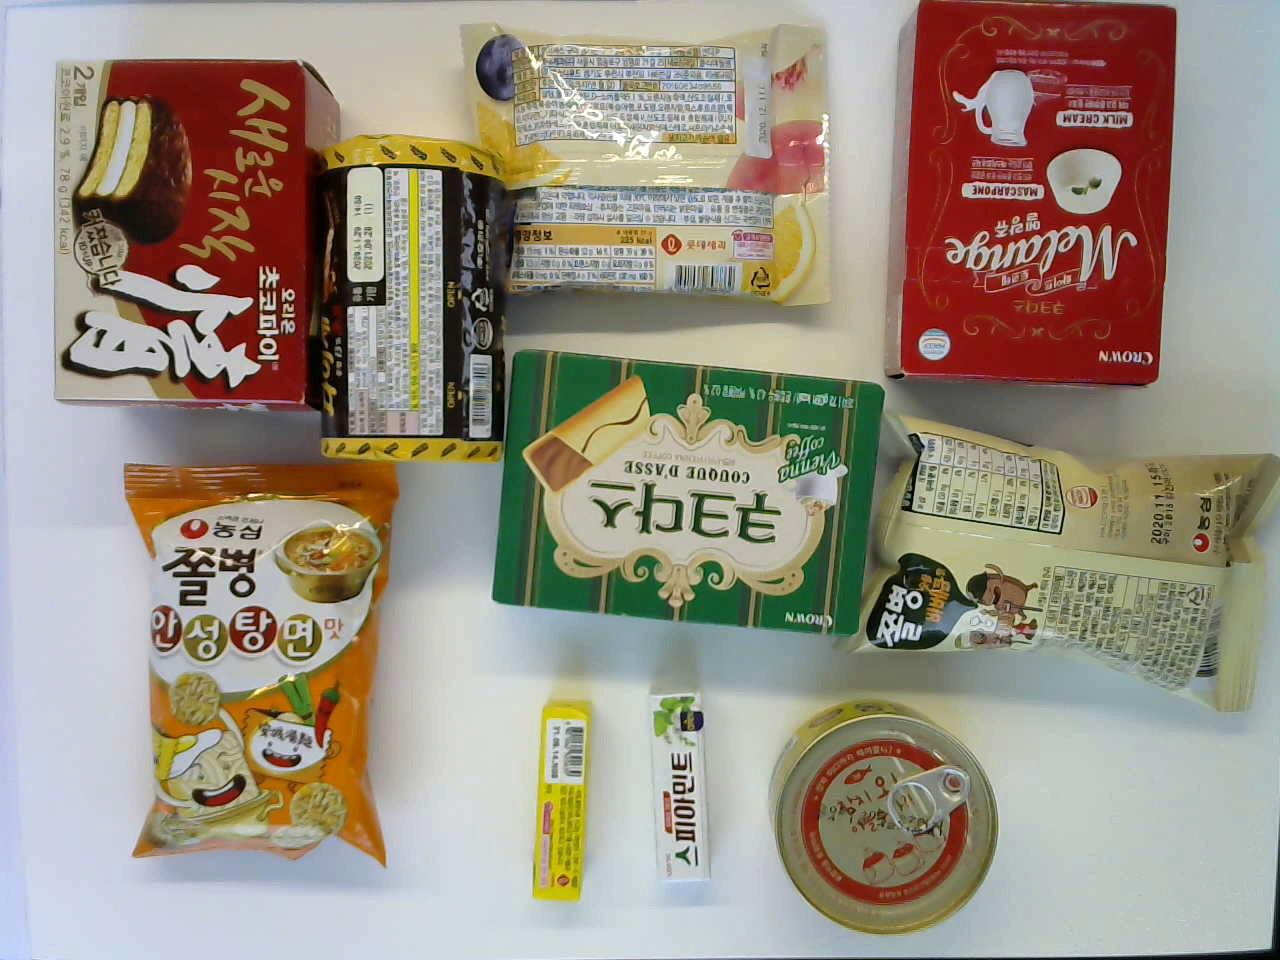chocopie: (46, 57, 338, 428)
couque_coffee: (476, 349, 889, 642)
couque_white: (886, 0, 1184, 387)
diget_choco: (321, 127, 507, 466)
gumi_gumi: (458, 11, 840, 320)
jjolbyung_noodle: (123, 458, 392, 888)
jjolbyung_ori: (846, 414, 1278, 705)
juicyfresh: (530, 690, 601, 909)
spearmint: (638, 673, 723, 895)
tuna: (769, 698, 1003, 934)
